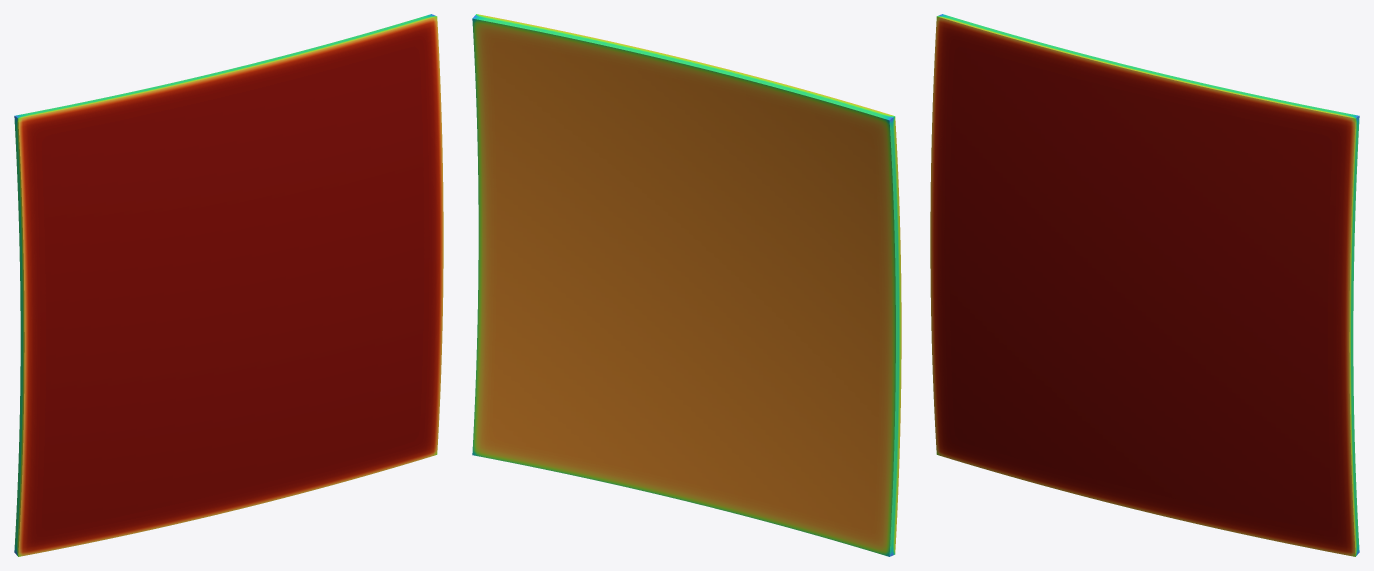
File: DISP_CFRP_2mm.gltf
3 renders of one model, left to right at view 1: azimuth 30°, elevation 25°; view 2: azimuth 150°, elevation 25°; view 3: azimuth 330°, elevation 25°, orthographic.
Visible parts, largest first — view 1: Renderer Node; view 2: Renderer Node; view 3: Renderer Node.
Boxes of the visible parts, x1,y1,x2,y2 form: Renderer Node: (14, 14, 443, 556); Renderer Node: (472, 14, 901, 556); Renderer Node: (930, 14, 1359, 556).
Size of the model in its own units: 101 by 101 by 7.26.
Materials: 1 (1 with a texture image).
